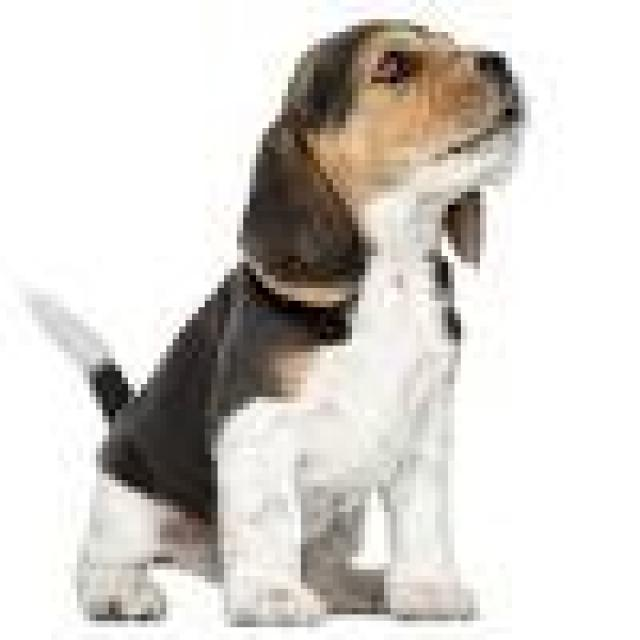Dog: (6, 13, 532, 640)
